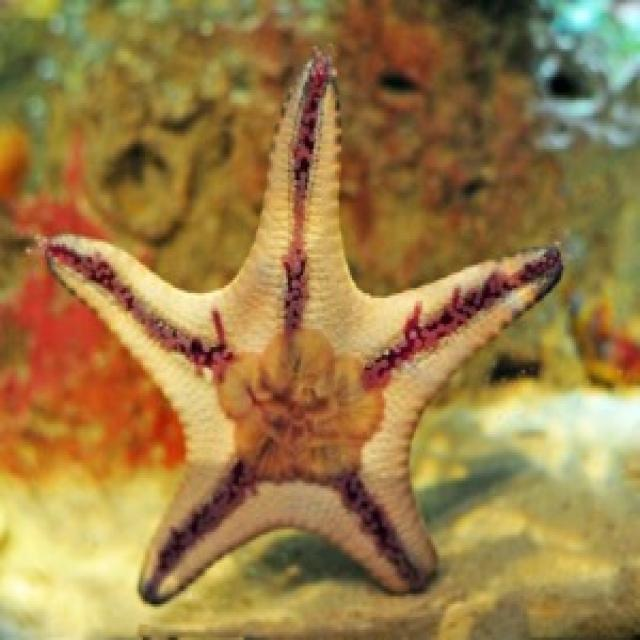Starfish: (21, 32, 572, 628)
